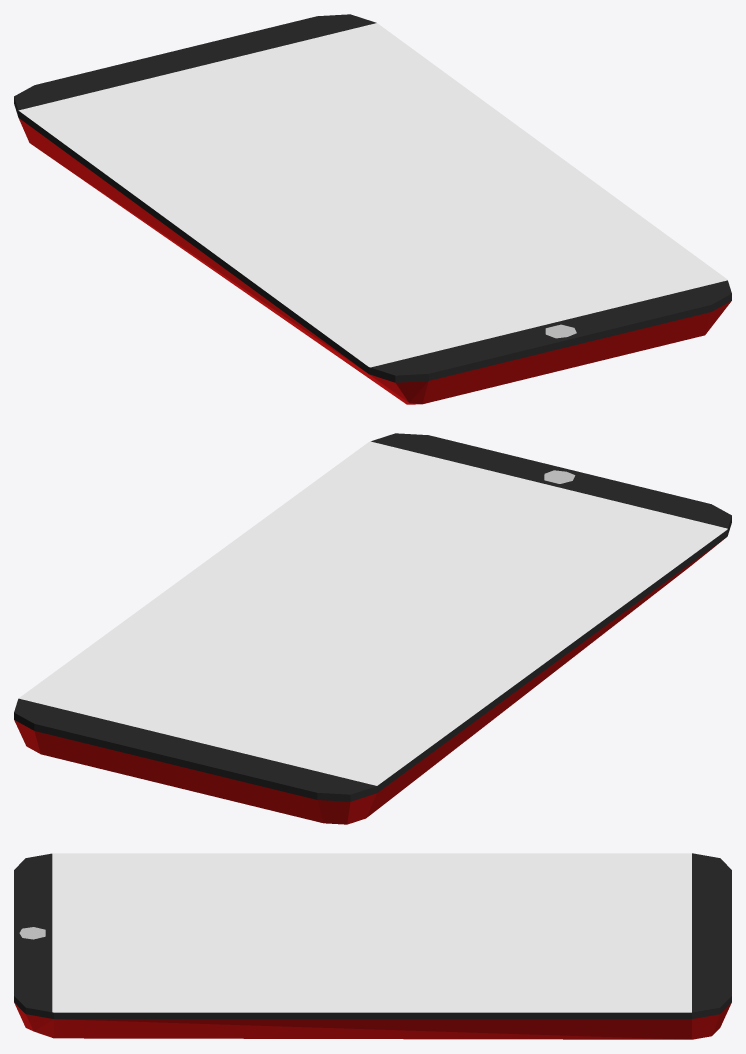
File: telefon.fbx
3 renders of one model, top to bottom at view 1: azimuth 30°, elevation 25°; view 2: azimuth 150°, elevation 25°; view 3: azimuth 270°, elevation 25°, orthographic. The views are drawn at different scales.
Parts seen in each view (by area): view 1: Cube; view 2: Cube; view 3: Cube.
Part boxes in pixels (x1,y1,x2,y2): Cube: (14, 14, 731, 404); Cube: (14, 433, 731, 824); Cube: (14, 853, 731, 1039).
Size of the model in its own units: 105 by 13.12 by 200.
